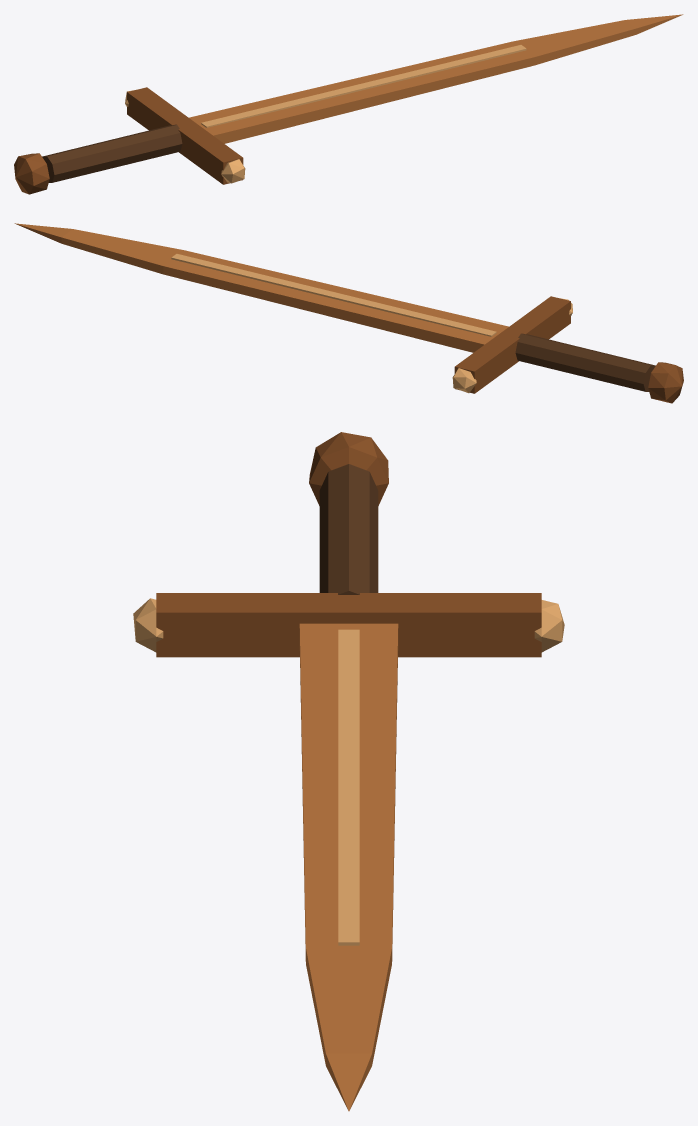
File: drop_bronze_longsword.glb
3 renders of one model, top to bottom at view 1: azimuth 30°, elevation 25°; view 2: azimuth 150°, elevation 25°; view 3: azimuth 270°, elevation 25°, orthographic. The views are drawn at different scales.
Visible parts, largest first — view 1: drop_bronze_longsword; view 2: drop_bronze_longsword; view 3: drop_bronze_longsword.
Boxes of the visible parts, bbox=[...] form: drop_bronze_longsword: bbox=[14, 14, 683, 194]; drop_bronze_longsword: bbox=[14, 223, 683, 403]; drop_bronze_longsword: bbox=[133, 432, 564, 1111].
Size of the model in its own units: 0.8016 by 0.0416 by 0.2241.
